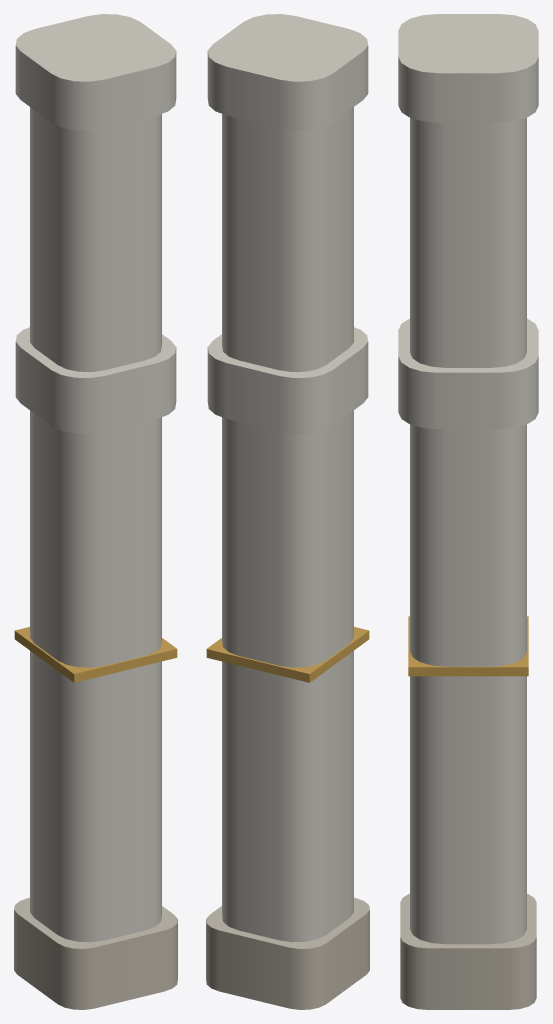
Rendered from hall_corner.glb.
The picture shows the model from 3 angles, left to right: view 1: azimuth 30°, elevation 25°; view 2: azimuth 150°, elevation 25°; view 3: azimuth 270°, elevation 25°; orthographic projection.
Visible parts, largest first — view 1: pier; view 2: pier; view 3: pier.
Boxes of the visible parts, left/top/right/bottom form: pier: left=14, top=14, right=177, bottom=1009; pier: left=206, top=14, right=369, bottom=1009; pier: left=398, top=14, right=538, bottom=1009.
Size of the model in its own units: 0.72 by 5.32 by 0.72.
